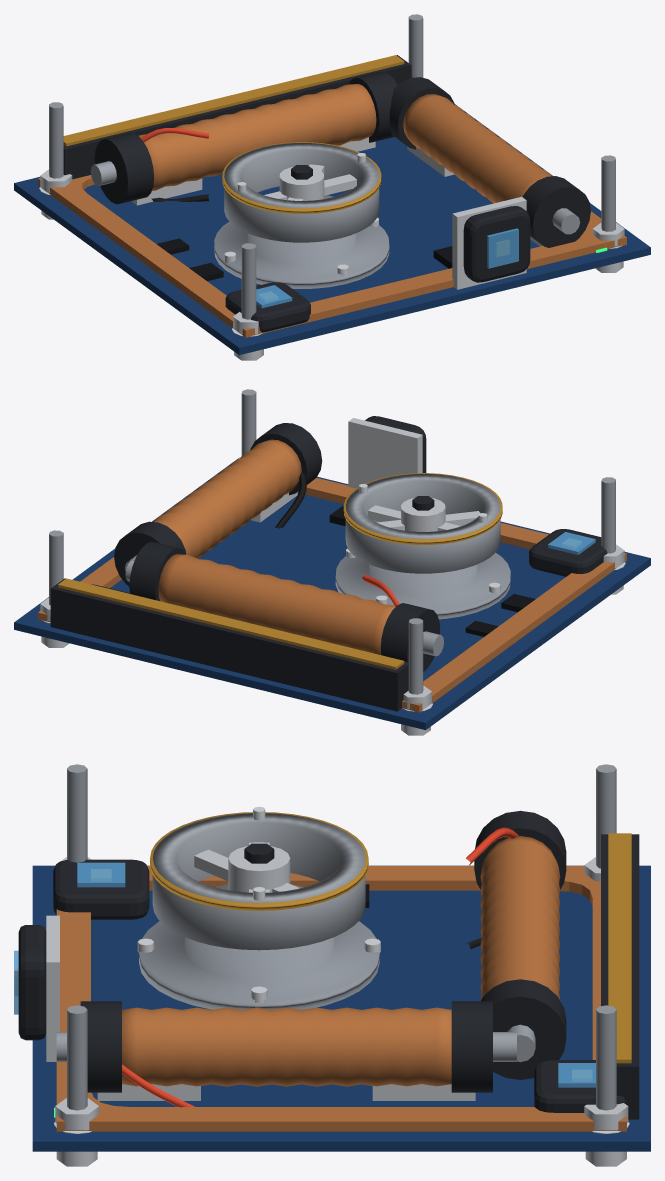
Rendered from attitude-basic.glb.
The picture shows the model from 3 angles, top to bottom: view 1: azimuth 30°, elevation 25°; view 2: azimuth 150°, elevation 25°; view 3: azimuth 270°, elevation 25°; orthographic projection. The views are drawn at different scales.
Parts seen in each view (by area): view 1: adcs-board-pcb, torquer-x-winding, reaction-wheel-rim, air-coil, torquer-y-winding, reaction-wheel-housing, torquer-y-cap (×2), torquer-x-cap (×2), rods, adcs-board-header-pins, sun-sensor-3-body, adcs-board-header (+12 smaller); view 2: adcs-board-pcb, adcs-board-header, torquer-x-winding, reaction-wheel-rim, torquer-y-winding, air-coil, reaction-wheel-housing, rods, sun-bracket-front, adcs-board-header-pins, torquer-x-cap (×2), torquer-y-cap (×2) (+8 smaller); view 3: adcs-board-pcb, torquer-y-winding, air-coil, reaction-wheel-rim, reaction-wheel-housing, torquer-x-winding, rods, torquer-x-cap (×2), torquer-y-cap (×2), adcs-board-header-pins, adcs-board-header, sun-sensor-1-body (+15 smaller).
Boxes of the visible parts, x1,y1,x2,y2 form: adcs-board-pcb: [14, 104, 650, 355]; torquer-x-winding: [138, 84, 376, 190]; reaction-wheel-rim: [224, 143, 379, 242]; air-coil: [38, 175, 626, 337]; torquer-y-winding: [403, 94, 551, 203]; reaction-wheel-housing: [214, 195, 389, 288]; torquer-y-cap (×2): [389, 77, 590, 247]; torquer-x-cap (×2): [94, 71, 397, 204]; rods: [49, 14, 615, 319]; adcs-board-header-pins: [63, 55, 404, 146]; sun-sensor-3-body: [463, 206, 530, 282]; adcs-board-header: [63, 55, 411, 179]; adcs-board-pcb: [14, 457, 650, 730]; adcs-board-header: [50, 578, 408, 711]; torquer-x-winding: [158, 554, 395, 654]; reaction-wheel-rim: [345, 474, 500, 573]; torquer-y-winding: [153, 439, 301, 558]; air-coil: [38, 478, 626, 712]; reaction-wheel-housing: [335, 552, 510, 619]; rods: [49, 389, 615, 694]; sun-bracket-front: [348, 418, 422, 488]; adcs-board-header-pins: [58, 578, 404, 669]; torquer-x-cap (×2): [129, 541, 440, 671]; torquer-y-cap (×2): [114, 423, 322, 586]; adcs-board-pcb: [32, 865, 650, 1151]; torquer-y-winding: [122, 1007, 451, 1086]; air-coil: [56, 866, 626, 1131]; reaction-wheel-rim: [152, 813, 365, 950]; reaction-wheel-housing: [139, 884, 379, 1009]; torquer-x-winding: [480, 836, 560, 1000]; rods: [67, 764, 616, 1110]; torquer-x-cap (×2): [474, 810, 566, 1079]; torquer-y-cap (×2): [80, 1001, 492, 1092]; adcs-board-header-pins: [608, 833, 631, 1063]; adcs-board-header: [601, 834, 639, 1119]; sun-sensor-1-body: [53, 859, 149, 919].
Size of the model in its own units: 0.095 by 0.024 by 0.0927.
